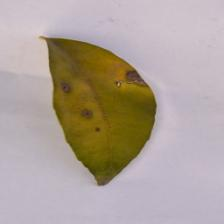canker: (43, 58, 164, 141)
